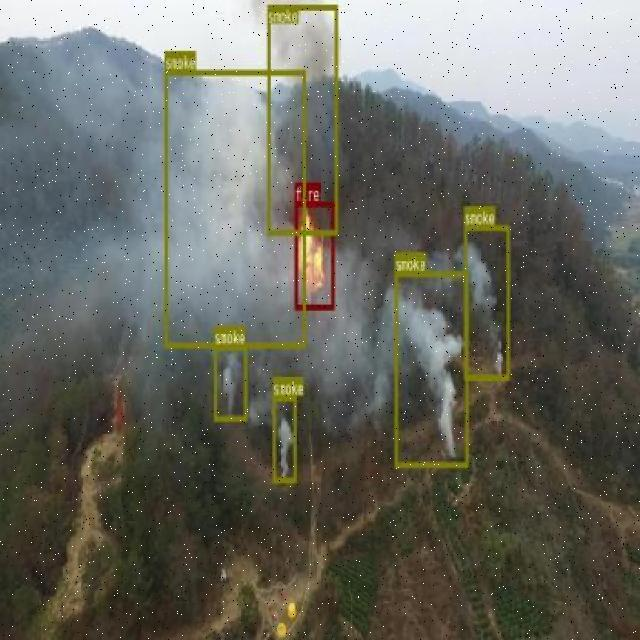Smoke: (199, 63, 270, 342), (266, 3, 337, 235), (394, 271, 468, 466), (464, 257, 508, 346), (213, 344, 247, 420), (272, 394, 296, 482)
